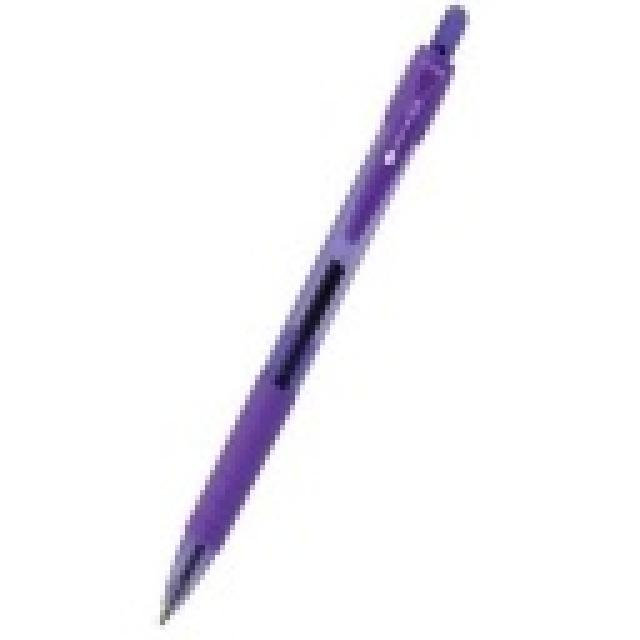pen: (153, 2, 476, 632)
